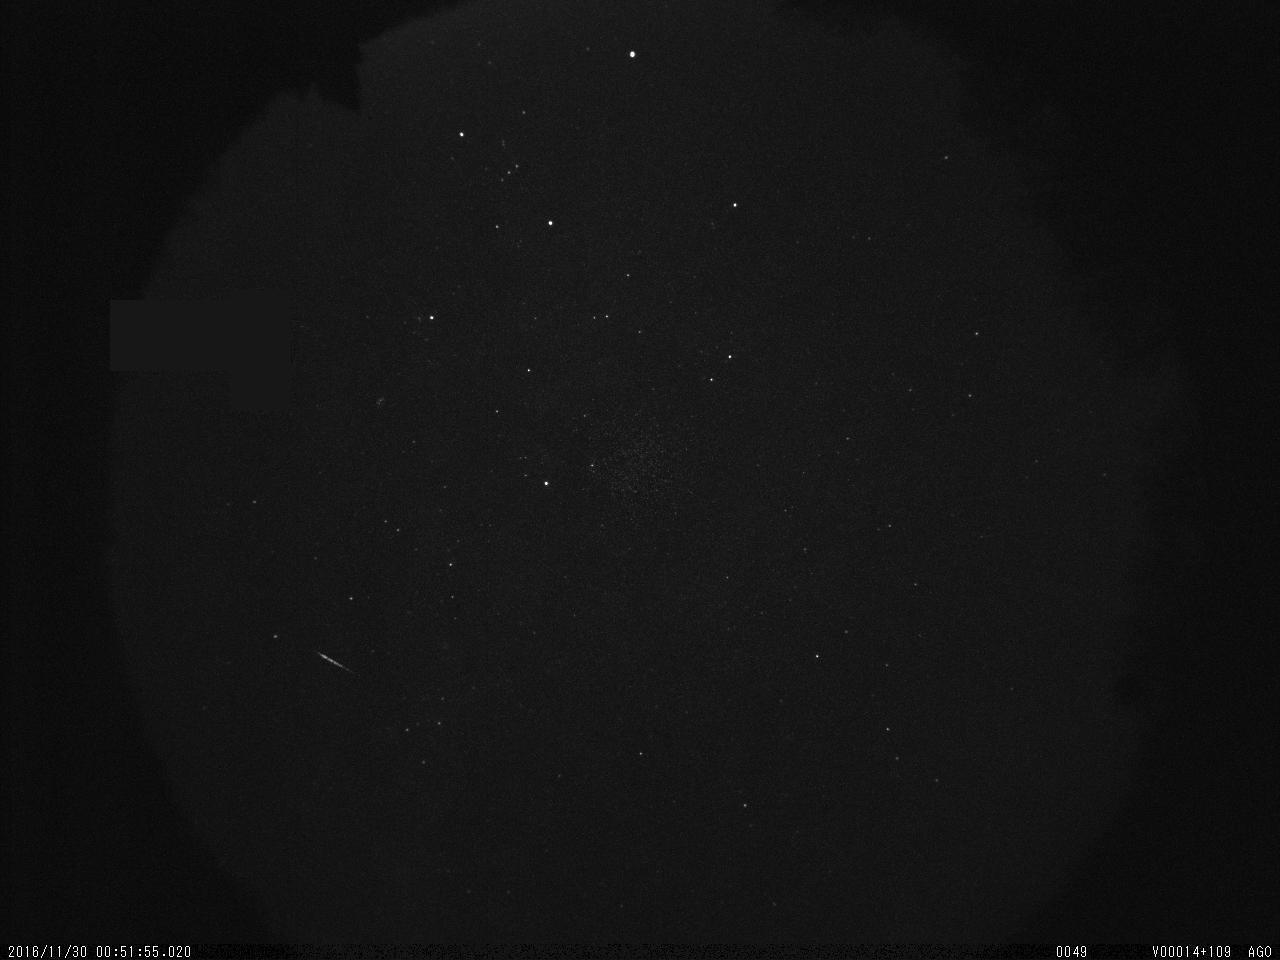meteor: (306, 642, 353, 682)
